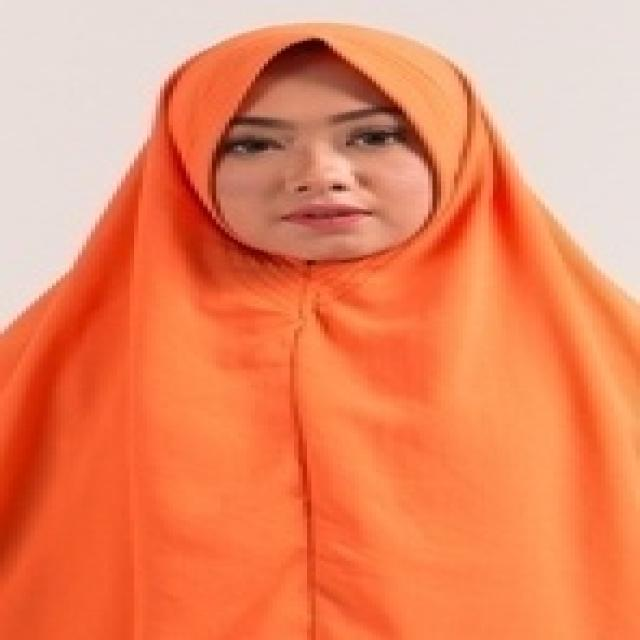head: (159, 15, 480, 275)
